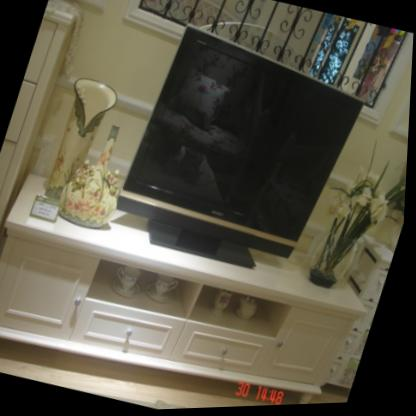TV stand: (0, 159, 394, 416)
